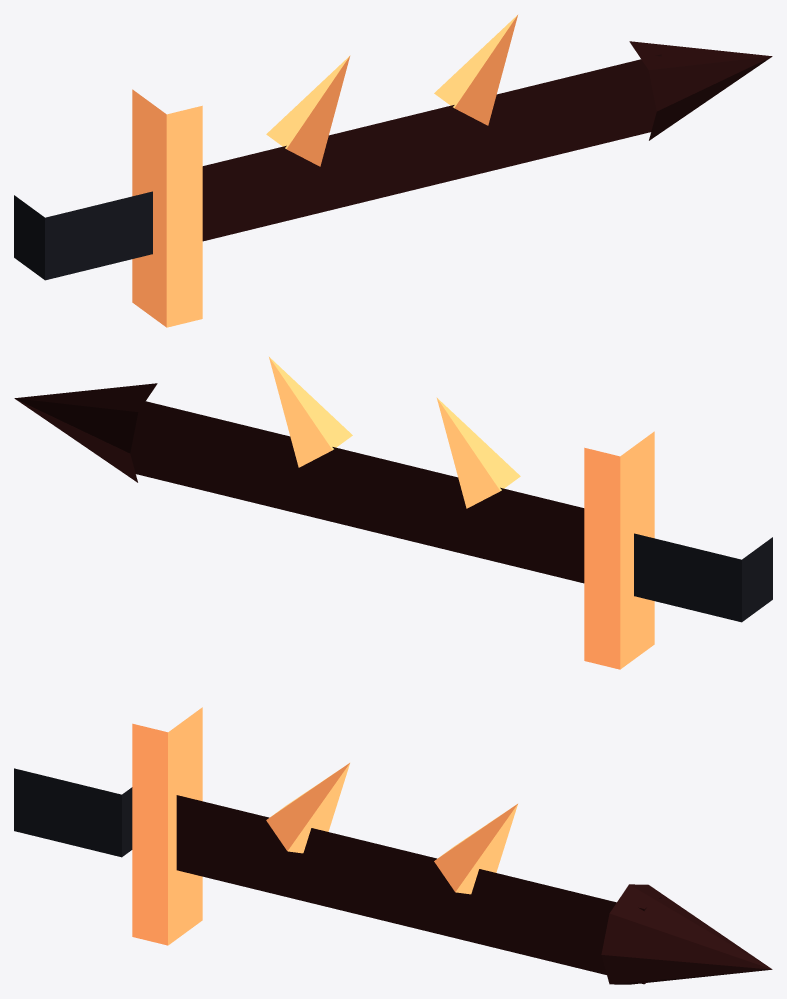
File: bloodseeker.glb
3 renders of one model, top to bottom at view 1: azimuth 30°, elevation 25°; view 2: azimuth 150°, elevation 25°; view 3: azimuth 330°, elevation 25°, orthographic.
Parts seen in each view (by area): view 1: bloodseeker-blade, bloodseeker-guard, bloodseeker-grip, bloodseeker-tip, bloodseeker-barb0.42, bloodseeker-barb0.7; view 2: bloodseeker-blade, bloodseeker-guard, bloodseeker-grip, bloodseeker-tip, bloodseeker-barb0.42, bloodseeker-barb0.7; view 3: bloodseeker-blade, bloodseeker-guard, bloodseeker-tip, bloodseeker-grip, bloodseeker-barb0.42, bloodseeker-barb0.7.
Part boxes in pixels (<box>): bloodseeker-blade: <box>202,54,661,241</box>; bloodseeker-guard: <box>132,89,202,327</box>; bloodseeker-grip: <box>14,191,152,280</box>; bloodseeker-tip: <box>629,41,772,140</box>; bloodseeker-barb0.42: <box>266,55,350,166</box>; bloodseeker-barb0.7: <box>434,15,517,125</box>; bloodseeker-blade: <box>125,396,584,583</box>; bloodseeker-guard: <box>584,431,654,669</box>; bloodseeker-grip: <box>634,533,772,622</box>; bloodseeker-tip: <box>14,383,157,482</box>; bloodseeker-barb0.42: <box>436,397,520,508</box>; bloodseeker-barb0.7: <box>269,357,352,467</box>; bloodseeker-blade: <box>176,795,661,984</box>; bloodseeker-guard: <box>132,707,202,945</box>; bloodseeker-tip: <box>601,884,772,984</box>; bloodseeker-grip: <box>14,768,132,857</box>; bloodseeker-barb0.42: <box>266,763,349,853</box>; bloodseeker-barb0.7: <box>434,804,517,894</box>.
Size of the model in its own units: 1.24 by 0.34 by 0.16.
